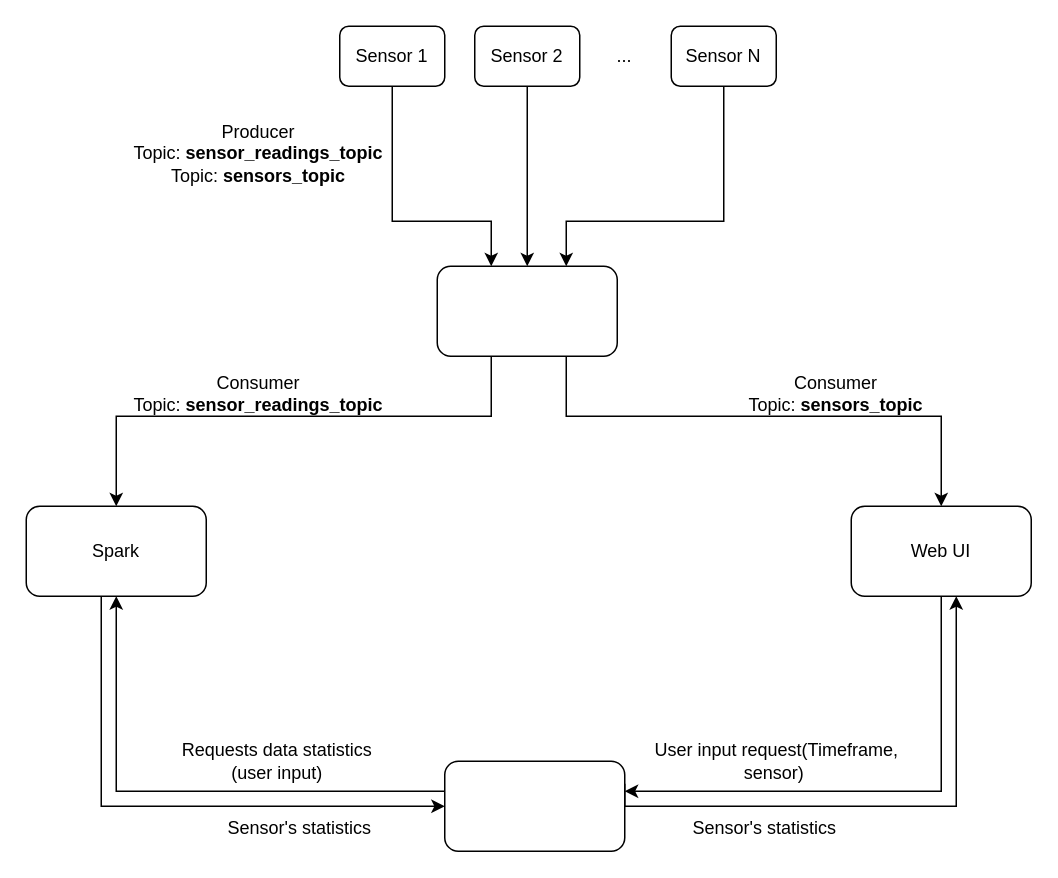
Some shapes in this 1058 by 878 pixel diagram are drawn without their labels. The centre of each missing label's shape, as x and y in pixels:
"API" goes at point 534,805.
"KAFKA" goes at point 526,310.
